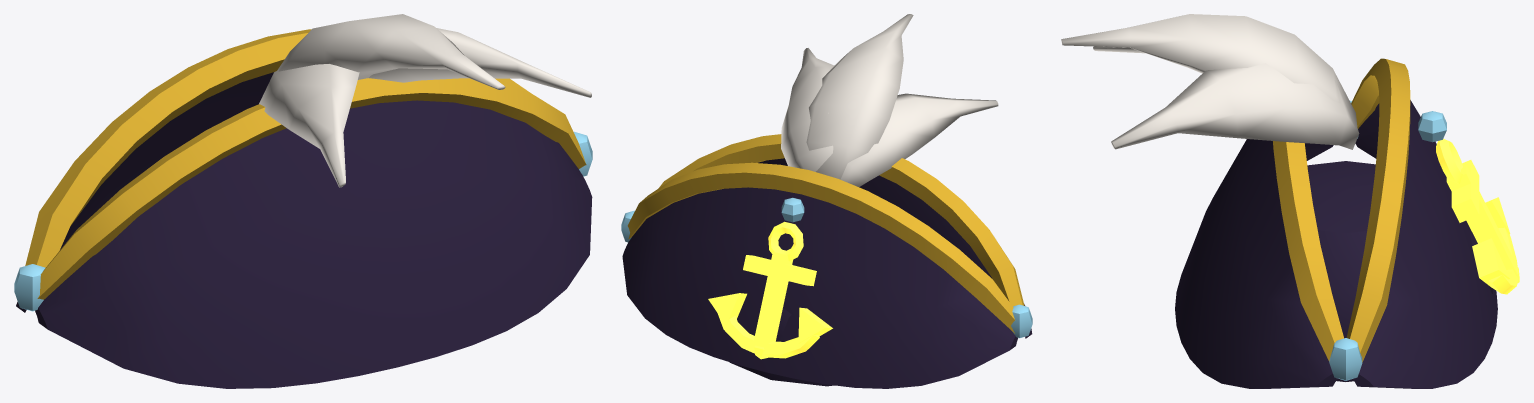
The model's file is chapeau_capitaine.fbx.
3 renders of one model, left to right at view 1: azimuth 30°, elevation 25°; view 2: azimuth 150°, elevation 25°; view 3: azimuth 270°, elevation 25°, orthographic. The views are drawn at different scales.
Parts seen in each view (by area): view 1: Chapeau, Anim_Plume; view 2: Chapeau, Anim_Plume, Anim_Ancre; view 3: Chapeau, Anim_Plume, Anim_Ancre.
Part boxes in pixels (box(x1,y1,x2,y2)): Chapeau: box(14, 29, 592, 388); Anim_Plume: box(259, 14, 591, 187); Chapeau: box(621, 134, 1032, 388); Anim_Plume: box(781, 14, 998, 186); Anim_Ancre: box(708, 221, 832, 359); Chapeau: box(1175, 58, 1497, 388); Anim_Plume: box(1061, 14, 1359, 149); Anim_Ancre: box(1436, 139, 1519, 294).
Bounding box in the file's own units: 1.27 × 0.7207 × 0.9648.
